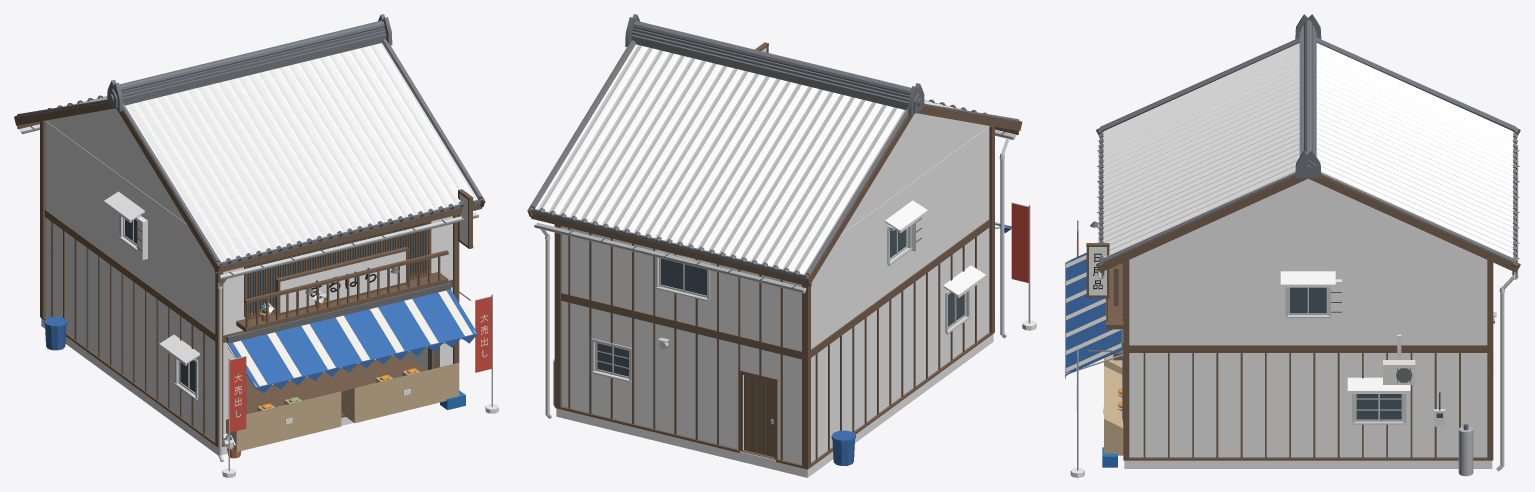
Rendered from shop_general.glb.
3 renders of one model, left to right at view 1: azimuth 30°, elevation 25°; view 2: azimuth 150°, elevation 25°; view 3: azimuth 270°, elevation 25°, orthographic. The views are drawn at different scales.
Visible parts, largest first — view 1: shop_general_body; view 2: shop_general_body; view 3: shop_general_body.
Boxes of the visible parts, x1,y1,x2,y2 form: shop_general_body: [14, 14, 498, 477]; shop_general_body: [527, 14, 1036, 477]; shop_general_body: [1065, 14, 1520, 477].
Size of what is drawn, in the model's own units: 8.28 by 8.89 by 11.26.
